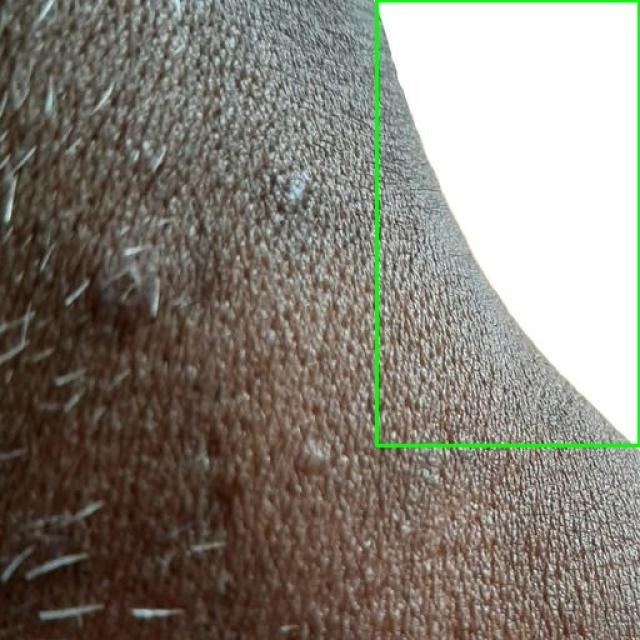Seborrheic Dermatitis: (376, 0, 639, 445)
